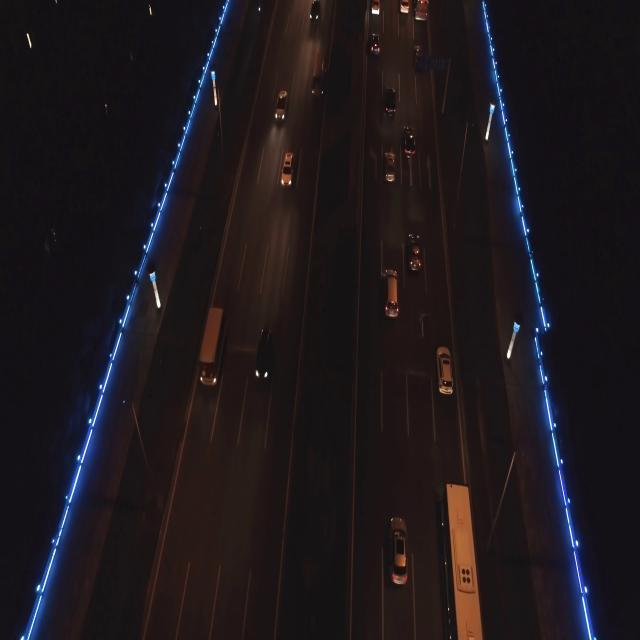vehicle: (440, 480, 482, 640), (199, 304, 225, 387), (390, 515, 408, 585), (255, 328, 274, 380), (436, 345, 454, 395), (384, 268, 399, 318), (408, 232, 421, 273), (312, 62, 326, 98), (280, 151, 294, 187), (274, 90, 288, 121), (404, 125, 416, 157), (384, 150, 396, 182), (385, 86, 396, 118), (414, 44, 426, 72), (414, 1, 429, 22), (370, 33, 380, 55), (310, 1, 320, 22), (400, 2, 410, 14), (372, 2, 381, 15)
